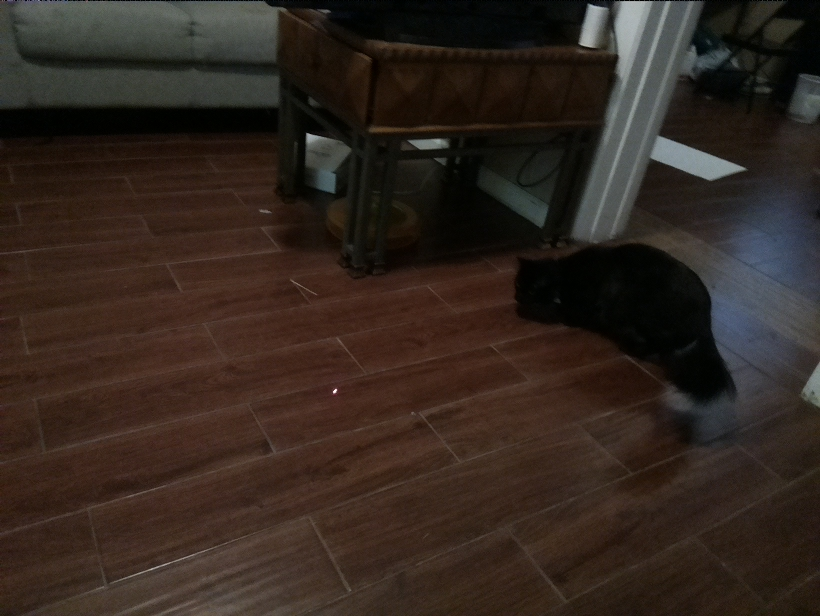cat: (502, 231, 736, 400)
